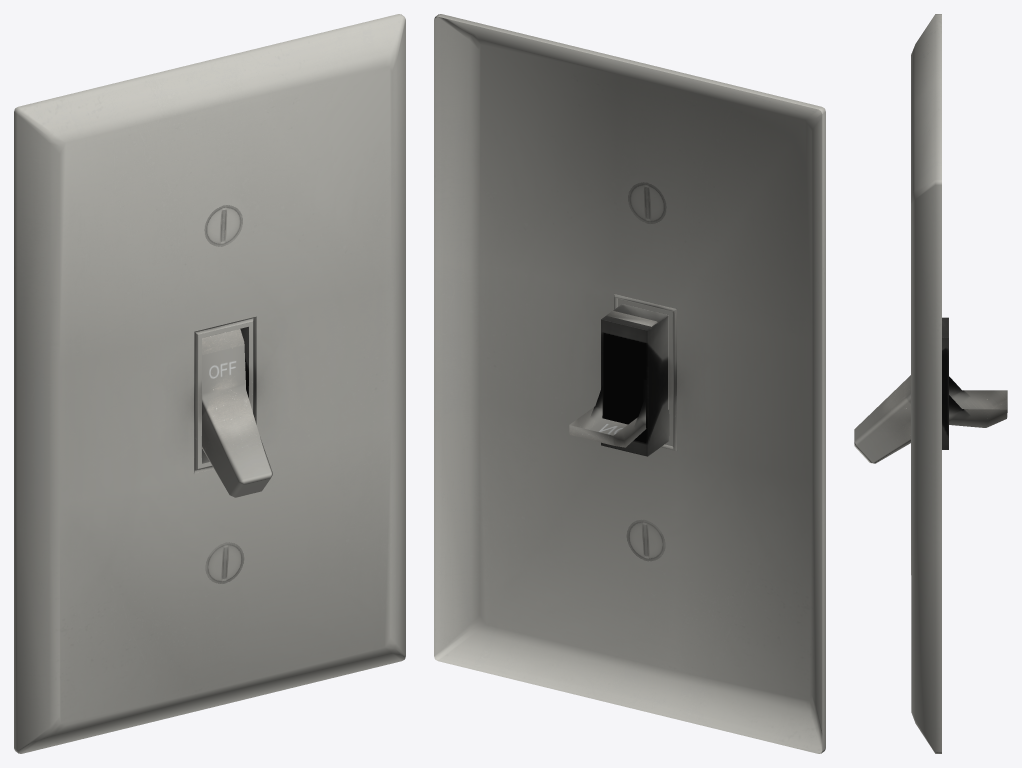
File: light_switch_plastic.glb
3 renders of one model, left to right at view 1: azimuth 30°, elevation 25°; view 2: azimuth 150°, elevation 25°; view 3: azimuth 270°, elevation 25°, orthographic. The views are drawn at different scales.
Parts seen in each view (by area): view 1: light_switch_plastic_plate, light_switch_plastic_lever; view 2: light_switch_plastic_plate, light_switch_plastic_lever; view 3: light_switch_plastic_plate, light_switch_plastic_lever.
Part boxes in pixels (bbox=[...]): light_switch_plastic_plate: bbox=[14, 14, 405, 753]; light_switch_plastic_lever: bbox=[202, 329, 272, 497]; light_switch_plastic_plate: bbox=[434, 14, 825, 753]; light_switch_plastic_lever: bbox=[569, 310, 657, 447]; light_switch_plastic_plate: bbox=[911, 14, 948, 753]; light_switch_plastic_lever: bbox=[854, 375, 1007, 463].
Bounding box in the file's own units: 0.1371 × 0.2174 × 0.0527.
Materials: 1 (1 with a texture image).
